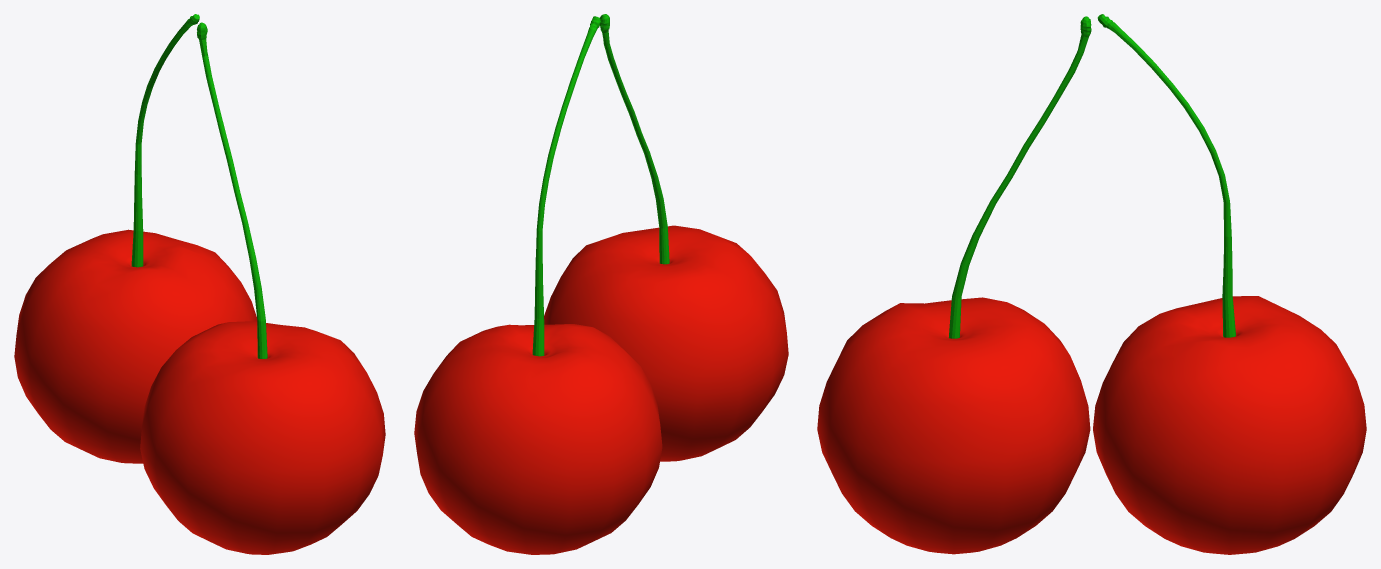
Rendered from Cherry.fbx.
The picture shows the model from 3 angles, left to right: view 1: azimuth 30°, elevation 25°; view 2: azimuth 150°, elevation 25°; view 3: azimuth 270°, elevation 25°; orthographic projection. The views are drawn at different scales.
Parts seen in each view (by area): view 1: pSphere1, pSphere2, polySurface2, polySurface1; view 2: pSphere2, pSphere1, polySurface1, polySurface2; view 3: pSphere2, pSphere1, polySurface1, polySurface2.
Part boxes in pixels (<box>): pSphere1: <box>140,321,385,554</box>; pSphere2: <box>14,229,257,463</box>; polySurface2: <box>197,22,267,358</box>; polySurface1: <box>131,14,199,267</box>; pSphere2: <box>414,324,662,554</box>; pSphere1: <box>544,225,788,461</box>; polySurface1: <box>532,16,600,356</box>; polySurface2: <box>599,14,669,264</box>; pSphere2: <box>1093,296,1366,554</box>; pSphere1: <box>817,297,1090,554</box>; polySurface1: <box>1097,14,1235,337</box>; polySurface2: <box>948,16,1091,338</box>.
Bounding box in the file's own units: 17.86 × 37.97 × 35.83.
